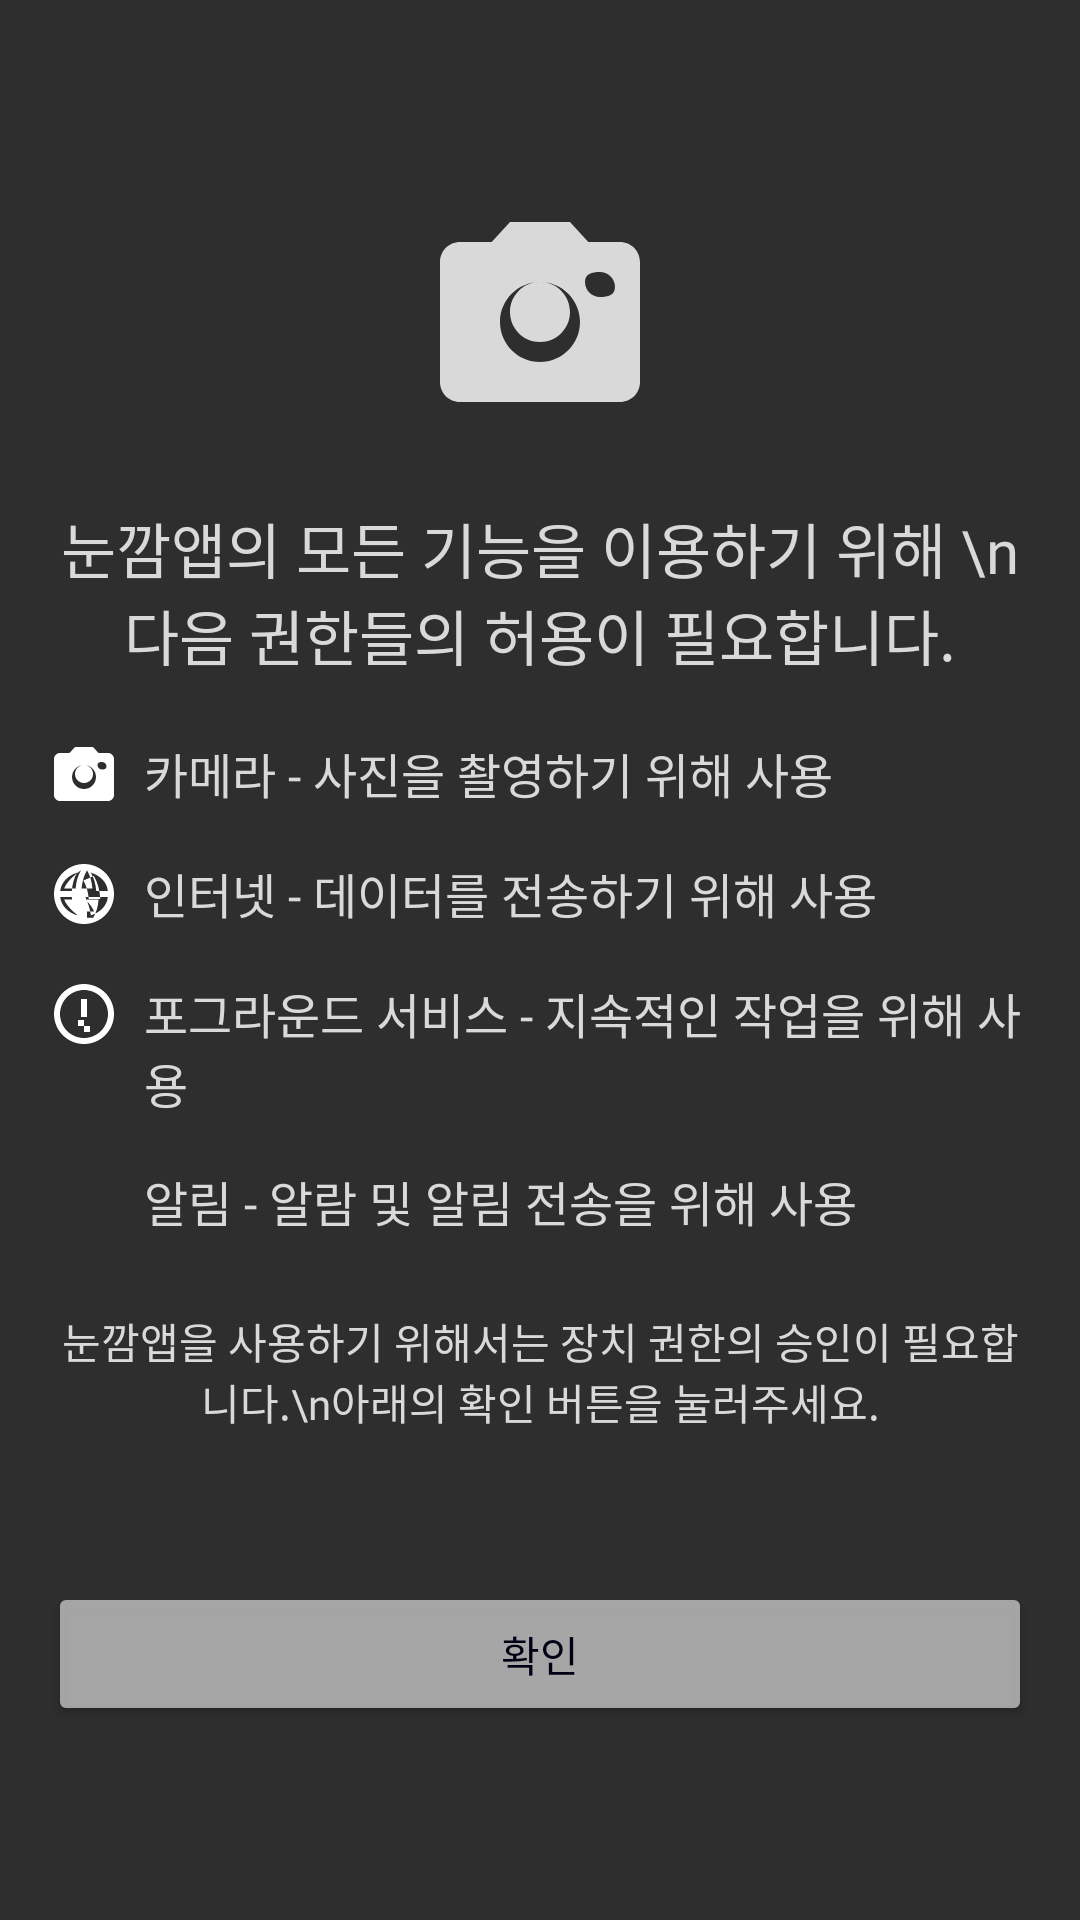

Named icons in this screenshot (1080px×1920px) and their bounding boxes, (x1, y1, x2, y2):
camera: (440, 222, 640, 402), (54, 747, 114, 801)
internet: (54, 864, 114, 924)
